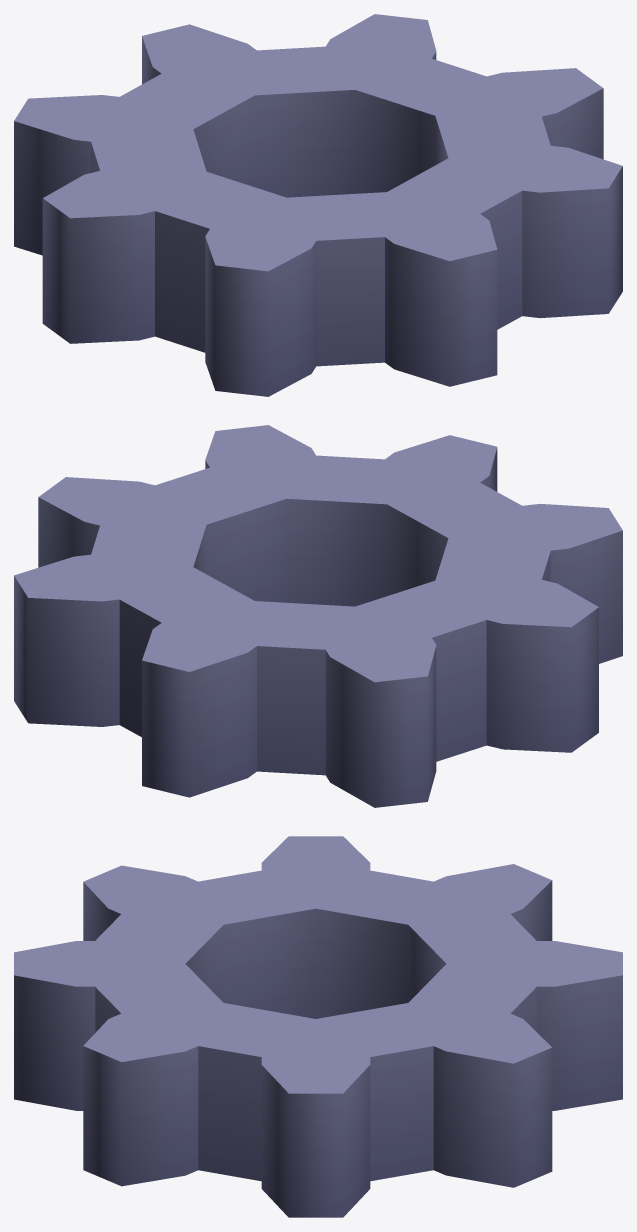
Rendered from cog-e.glb.
3 views of the same model, one above another, from view 1: azimuth 30°, elevation 25°; view 2: azimuth 150°, elevation 25°; view 3: azimuth 270°, elevation 25° (orthographic).
Visible parts, largest first — view 1: cog-e; view 2: cog-e; view 3: cog-e.
Part boxes in pixels (<box>): cog-e: <box>14,14,622,396</box>; cog-e: <box>14,425,622,807</box>; cog-e: <box>14,836,622,1217</box>.
Bounding box in the file's own units: 1 × 0.225 × 1.
1 material, 1 textured.
